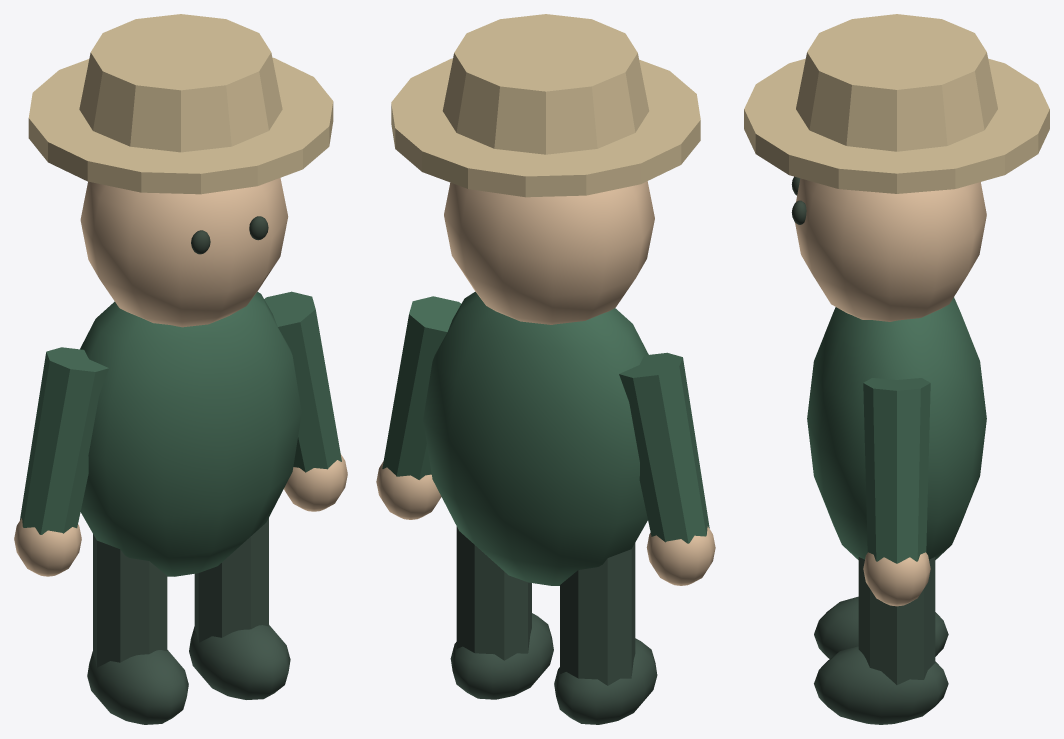
Rendered from garden-visitor.glb.
3 renders of one model, left to right at view 1: azimuth 30°, elevation 25°; view 2: azimuth 150°, elevation 25°; view 3: azimuth 270°, elevation 25°, orthographic. The views are drawn at different scales.
Visible parts, largest first — view 1: garden-visitor-runtime; view 2: garden-visitor-runtime; view 3: garden-visitor-runtime.
Part boxes in pixels (x1,y1,x2,y2): garden-visitor-runtime: [14, 14, 347, 724]; garden-visitor-runtime: [376, 14, 715, 724]; garden-visitor-runtime: [744, 14, 1049, 724].
Bounding box in the file's own units: 0.83 × 1.58 × 0.68.
